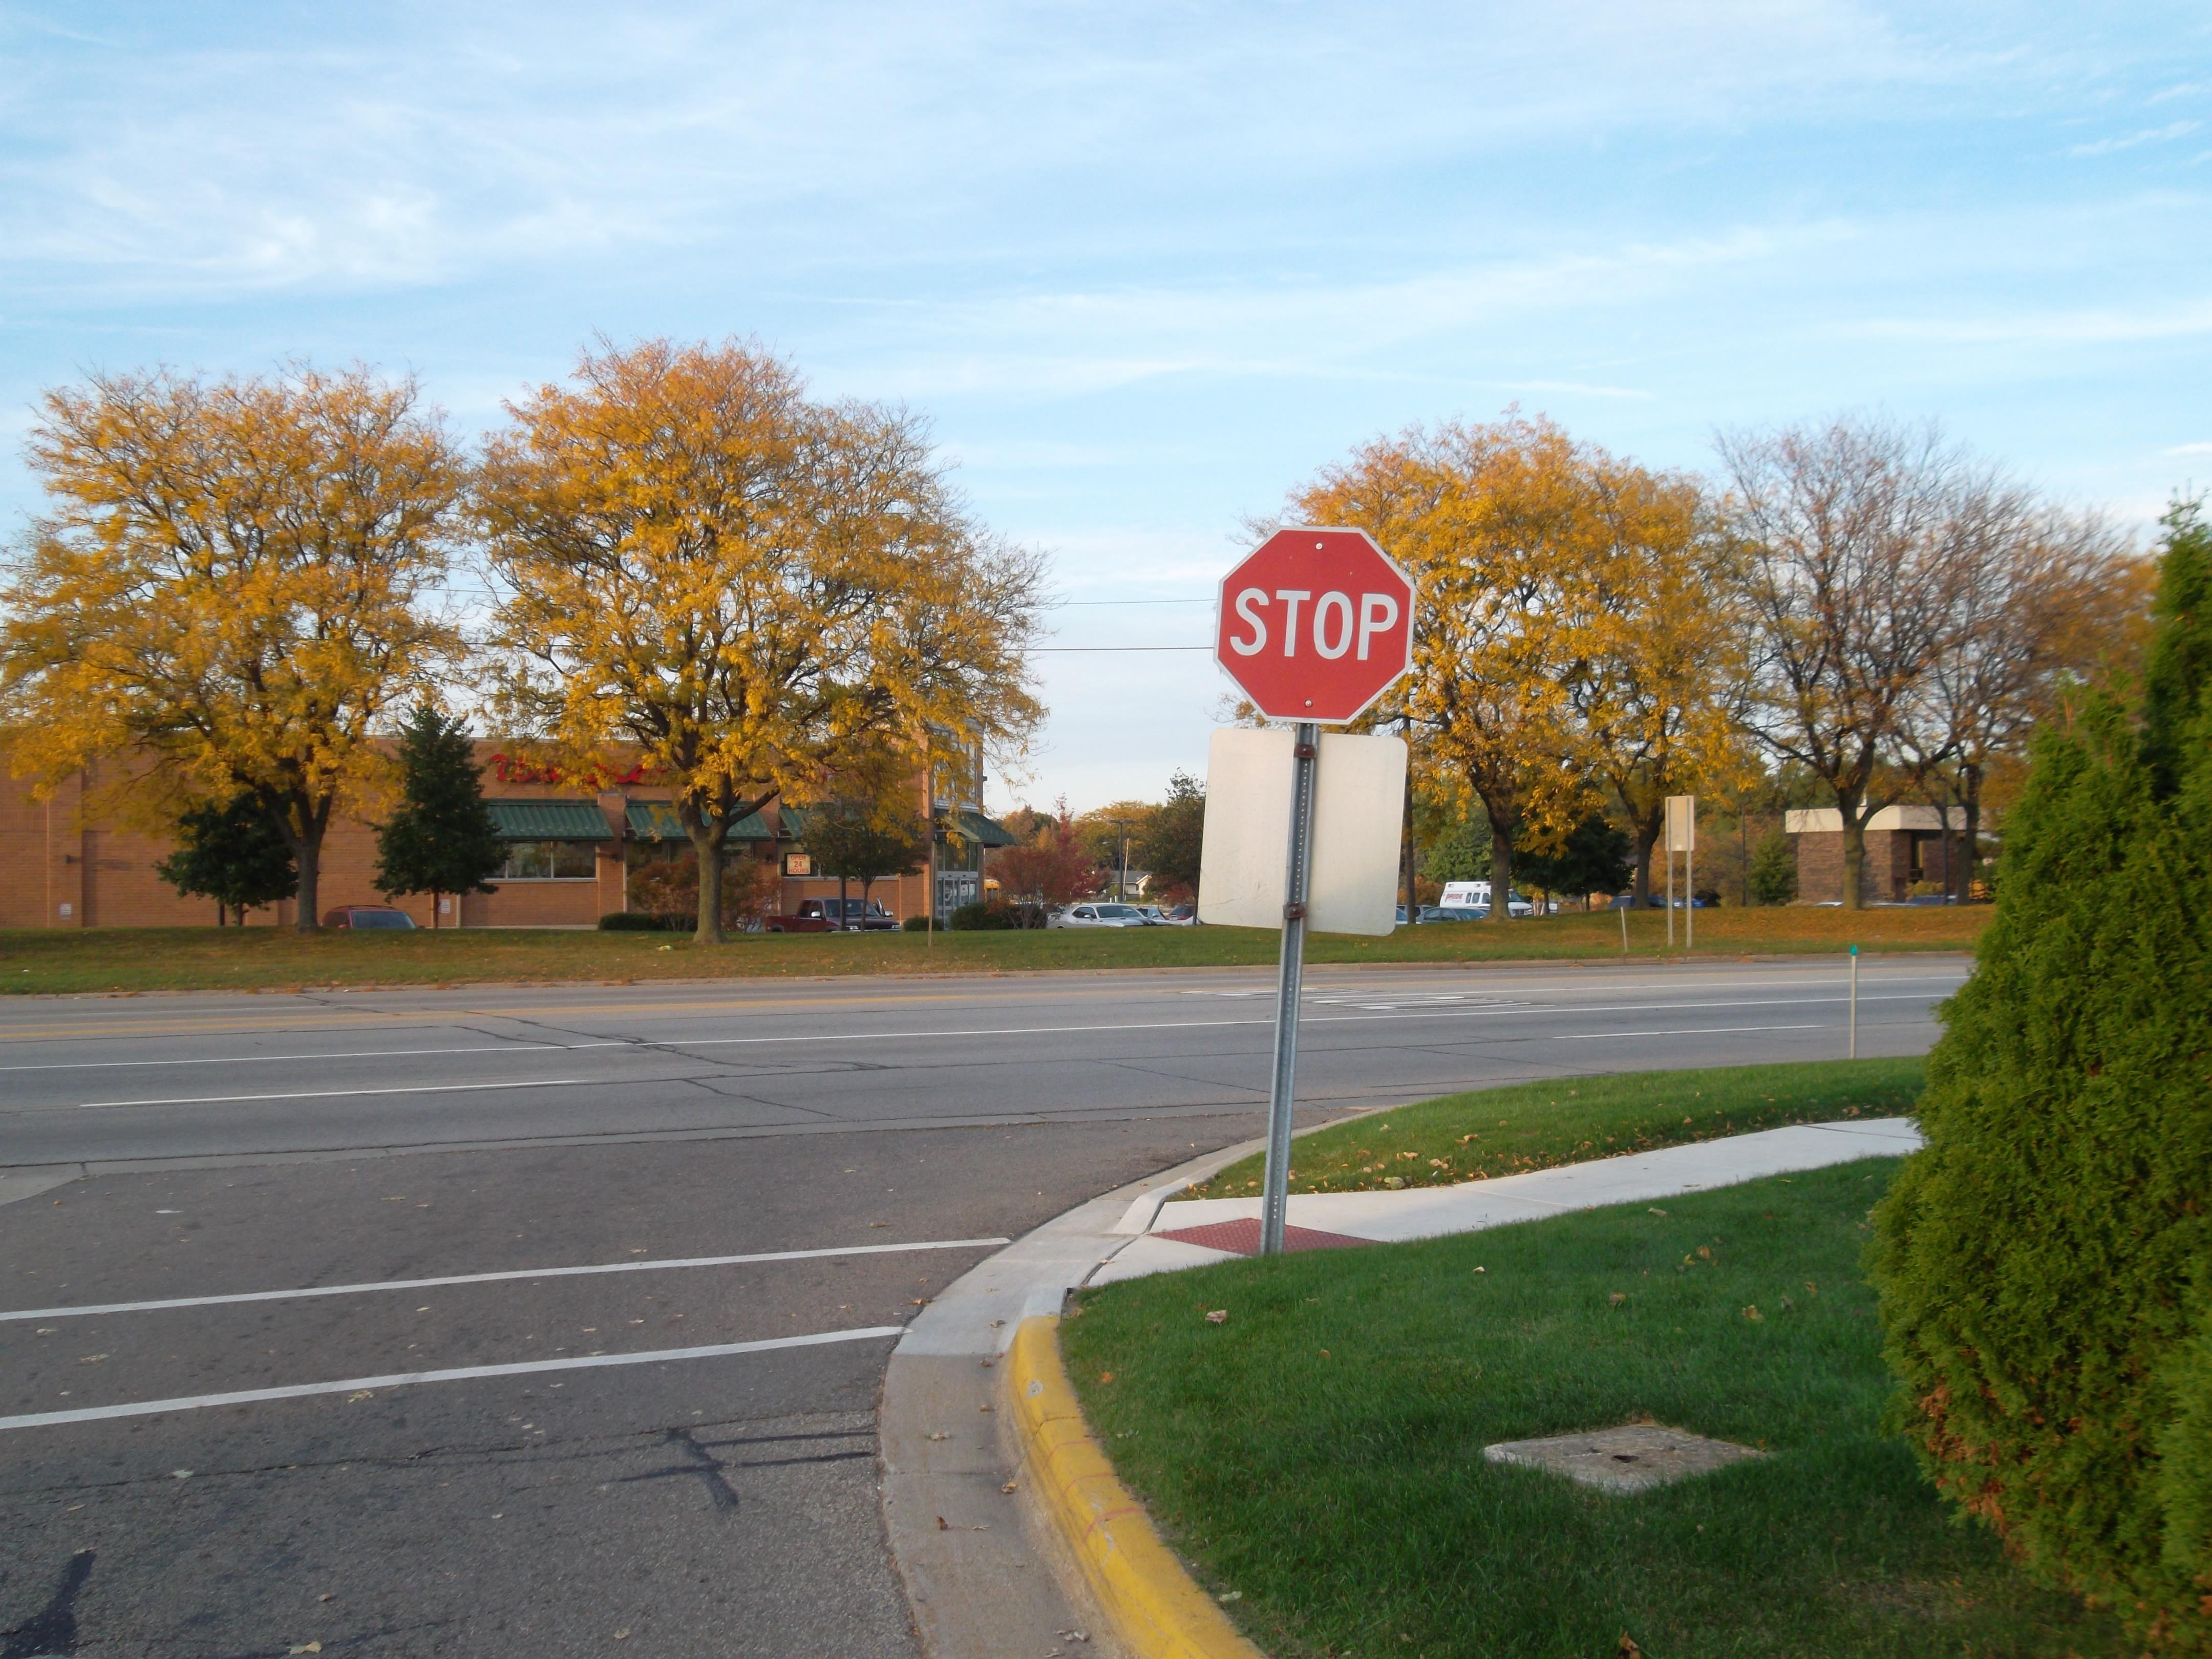stop: (1212, 523, 1416, 728)
